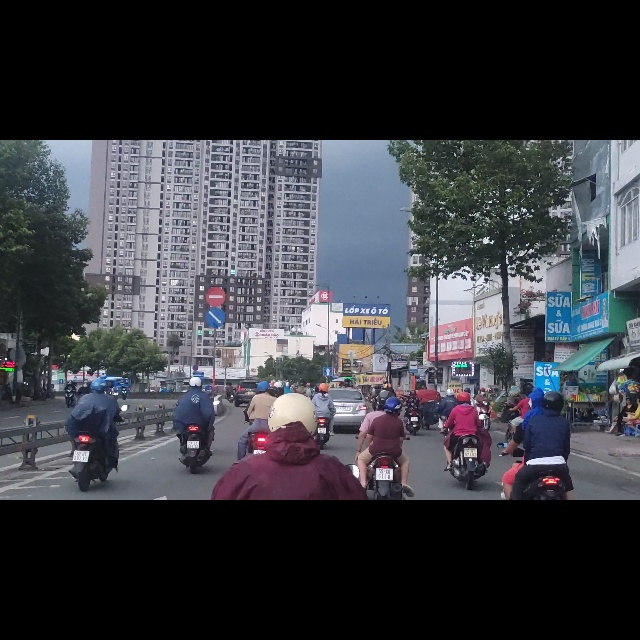bien_cam: (204, 298, 227, 335), (205, 261, 226, 296), (408, 392, 418, 414), (324, 404, 333, 420)
